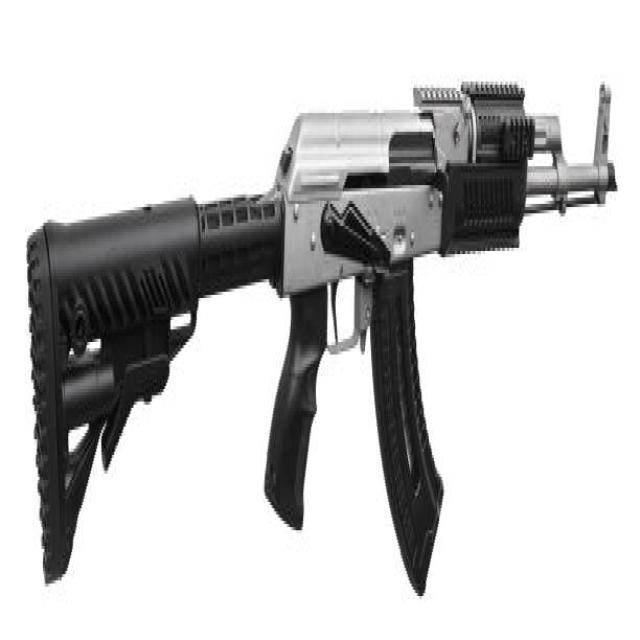rifle: (22, 41, 622, 624)
